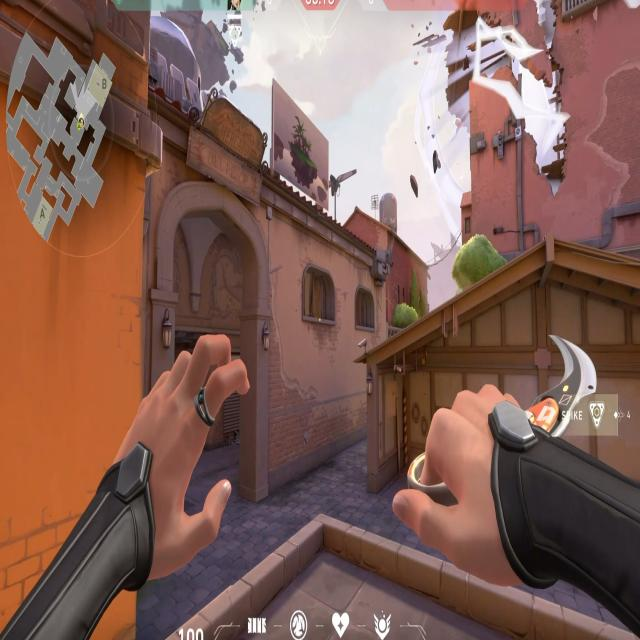B_Garage_Left: (358, 358, 434, 497)
Throwables: (300, 256, 340, 335), (352, 281, 378, 335)
